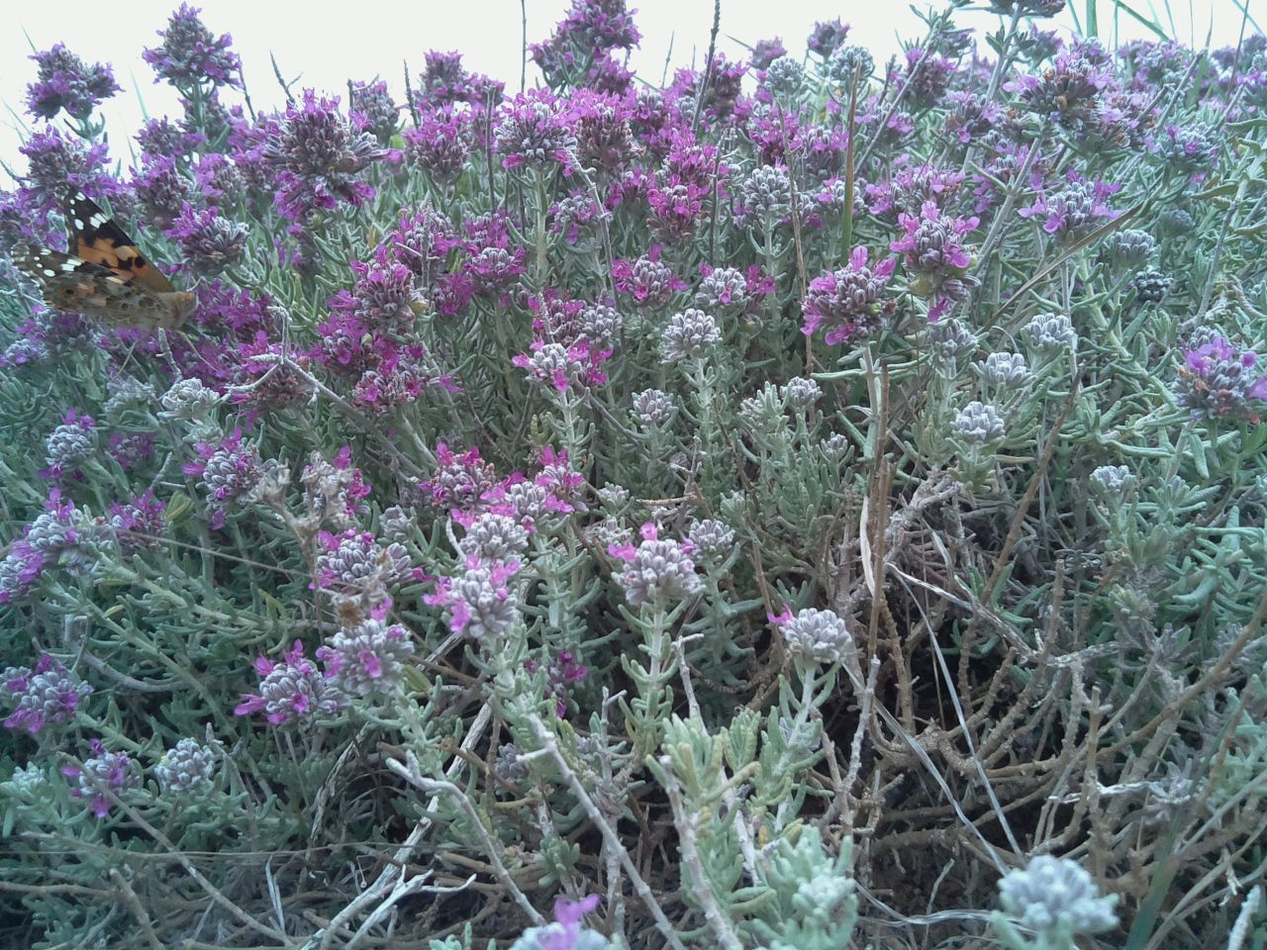Butterfly: (21, 170, 219, 354)
